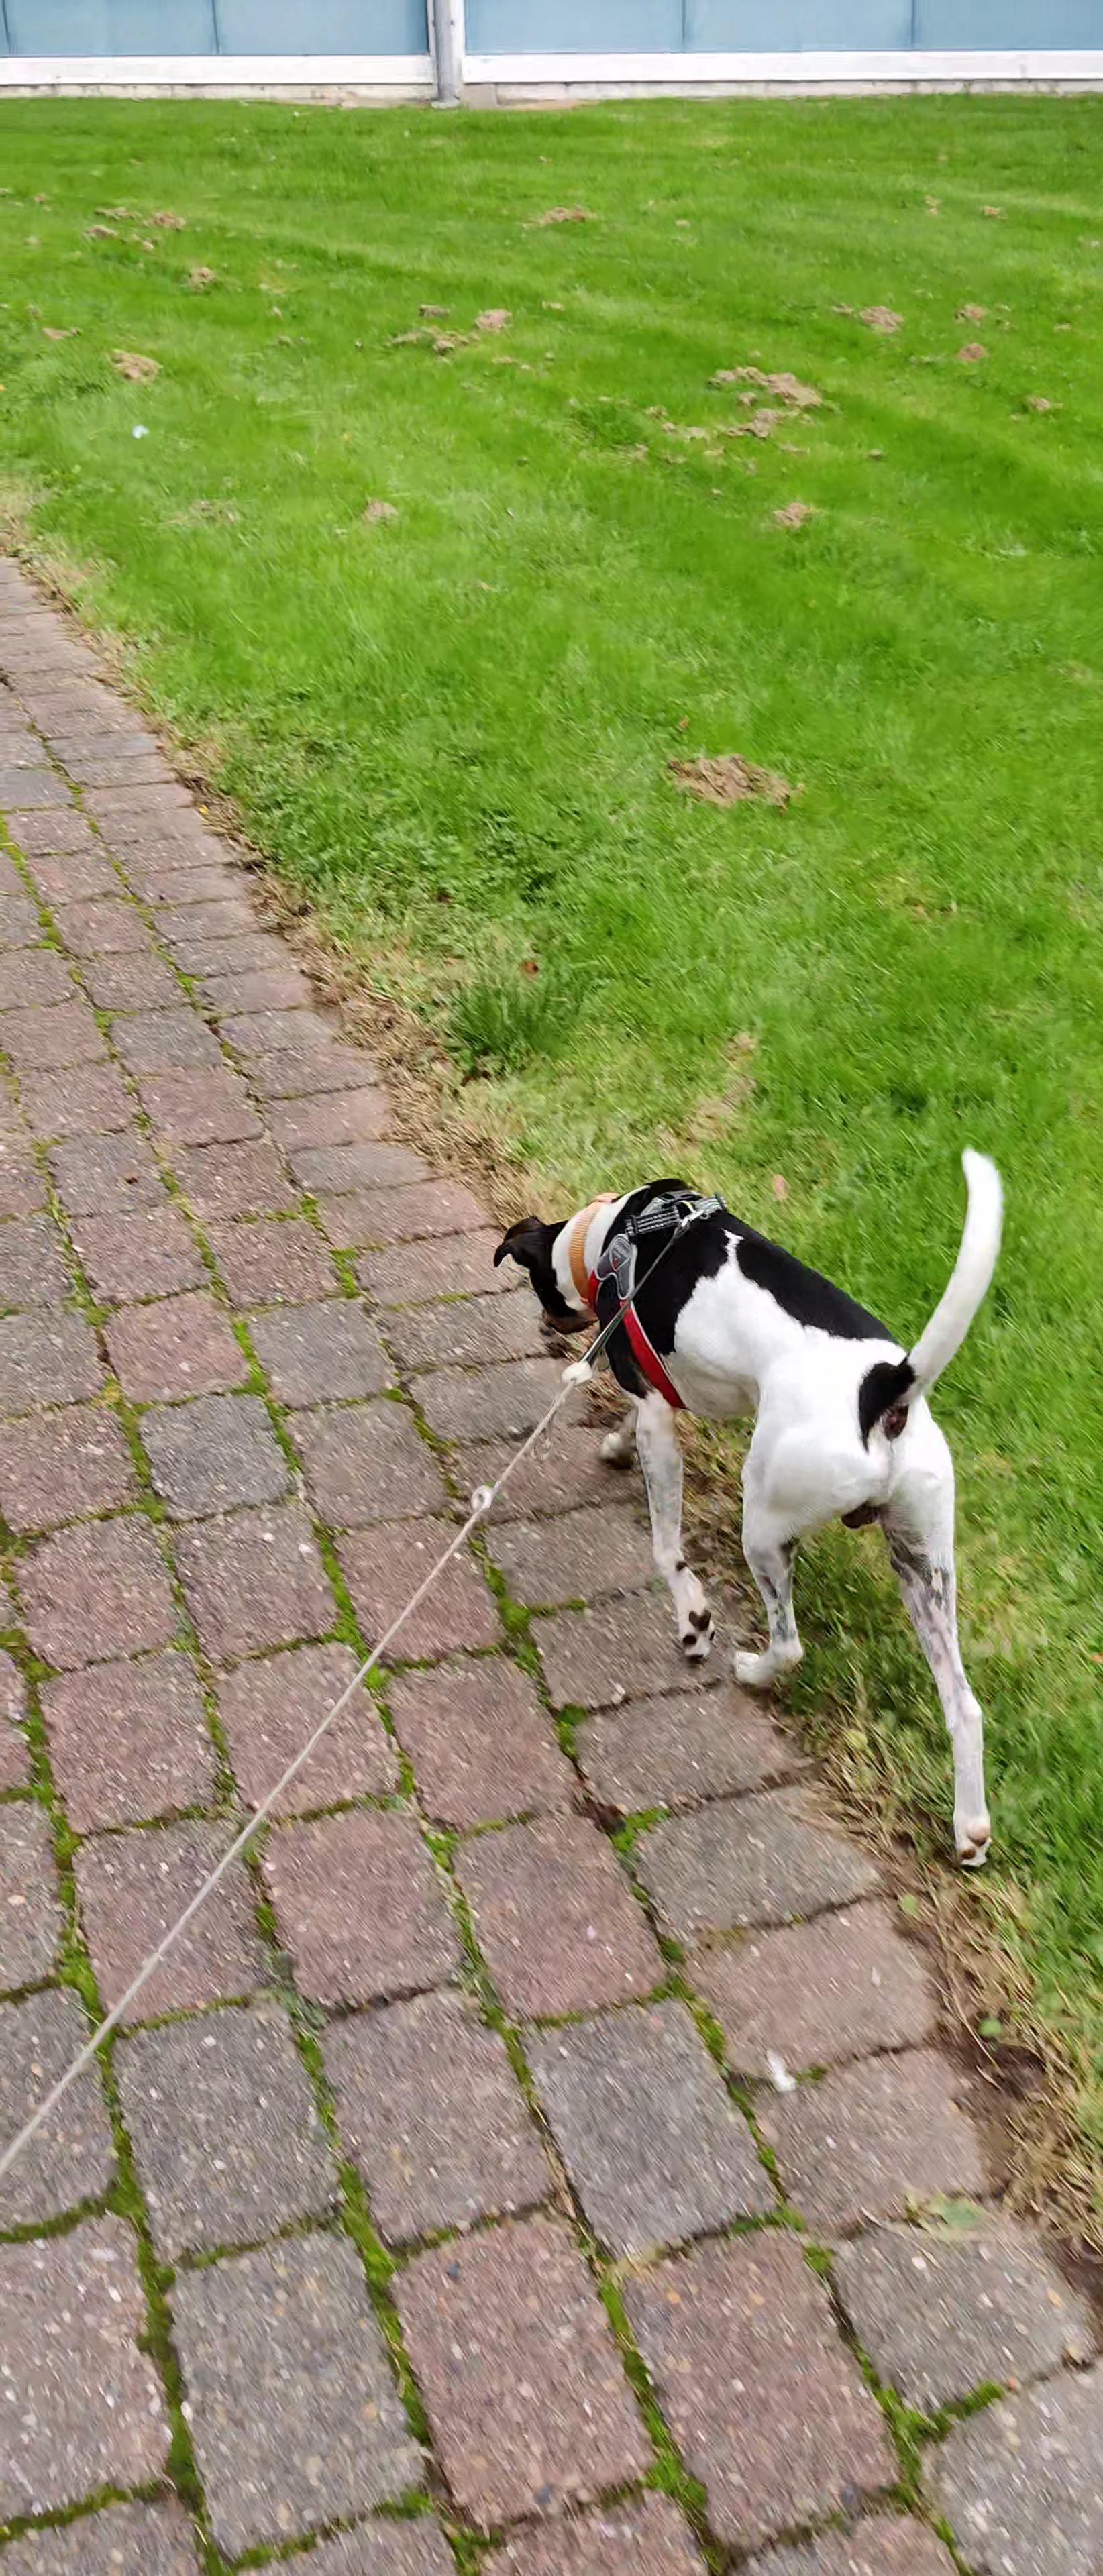Dog: (482, 1135, 1018, 1871)
